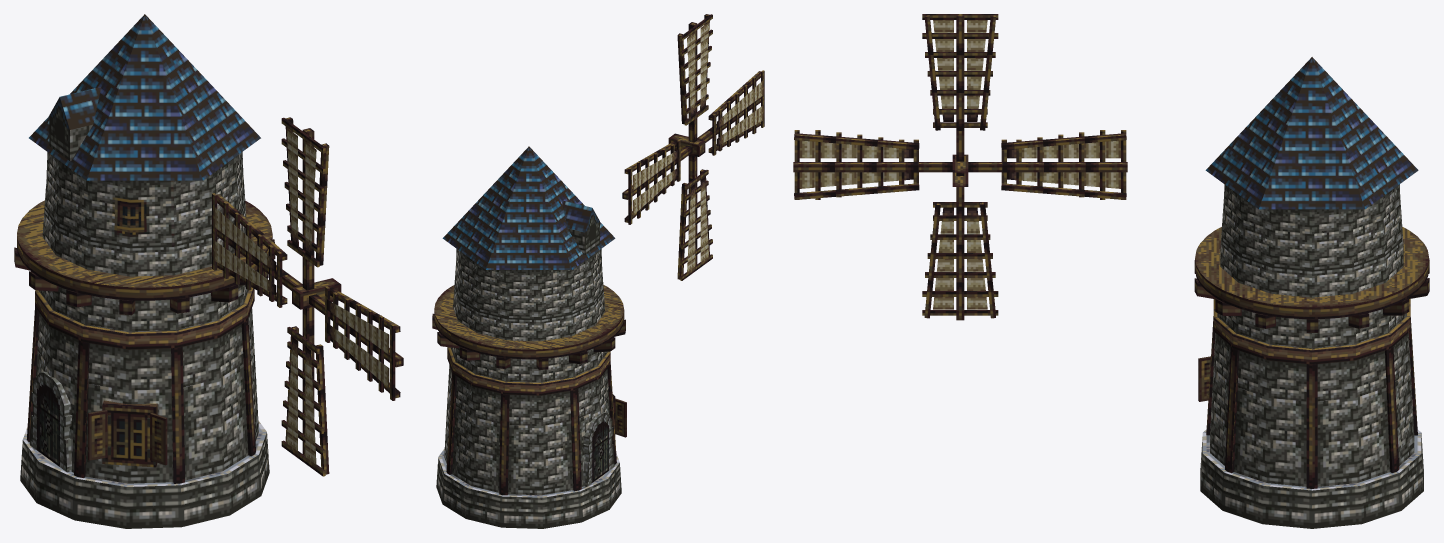
The model's file is ObjMD_Plain_Windmill_A.FBX.
3 renders of one model, left to right at view 1: azimuth 30°, elevation 25°; view 2: azimuth 150°, elevation 25°; view 3: azimuth 270°, elevation 25°, orthographic. The views are drawn at different scales.
Visible parts, largest first — view 1: ObjMD_Plain_Windmill_A, ObjMD_Plain_Windmill_A_impeller; view 2: ObjMD_Plain_Windmill_A, ObjMD_Plain_Windmill_A_impeller; view 3: ObjMD_Plain_Windmill_A, ObjMD_Plain_Windmill_A_impeller.
Boxes of the visible parts, box(x1,y1,x2,y2) form: ObjMD_Plain_Windmill_A: box(14, 14, 275, 528); ObjMD_Plain_Windmill_A_impeller: box(212, 117, 403, 476); ObjMD_Plain_Windmill_A: box(432, 146, 626, 528); ObjMD_Plain_Windmill_A_impeller: box(622, 14, 764, 280); ObjMD_Plain_Windmill_A: box(1194, 57, 1429, 528); ObjMD_Plain_Windmill_A_impeller: box(793, 14, 1127, 320).
Size of the model in its own units: 571 by 1194 by 1523.
